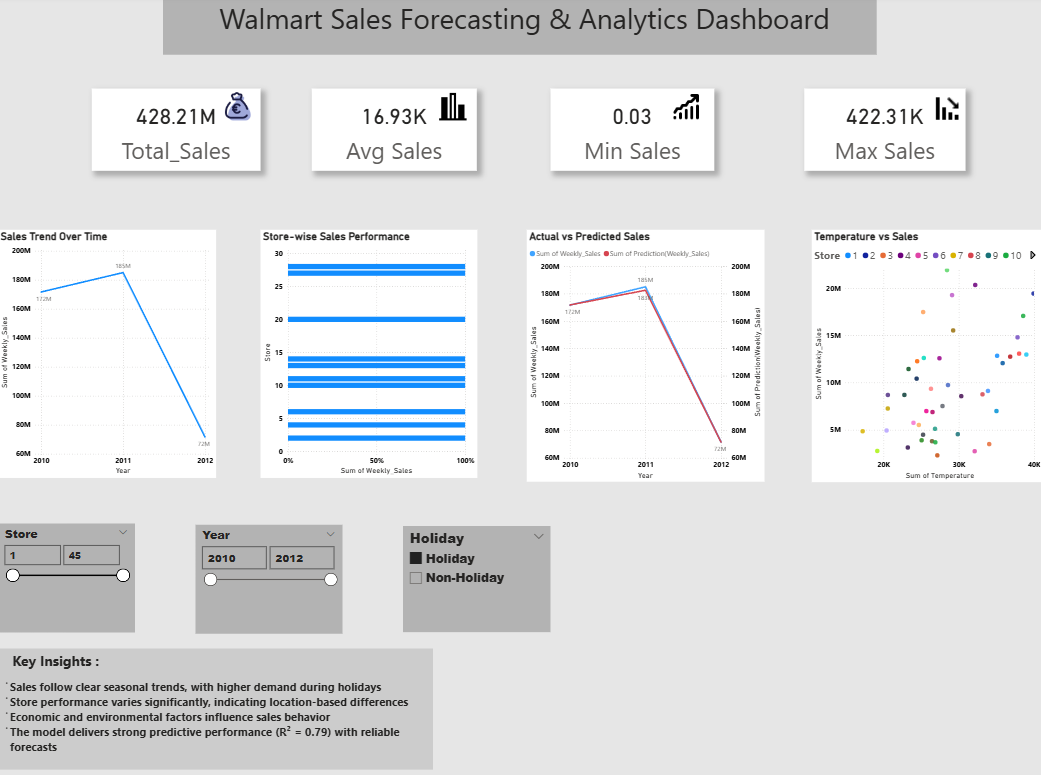

Layout of this report page (visuals, bound fields, positions):
{"tool":"powerbi","page":{"name":"walmart_sales_prediction_dashboard","canvas":[2000,1500],"ordinal":0},"visuals":[{"type":"card","fields":{"Values":["Sum(walmart_final_data.Weekly_Sales)"]},"box":[179.5,177.1,323.1,157.9],"z":0},{"type":"card","fields":{"Values":["walmart_final_data.Avg Sales"]},"box":[600.7,177.1,315.9,157.9],"z":1000},{"type":"card","fields":{"Values":["walmart_final_data.Min Sales (Clean)"]},"box":[1057.8,177.1,313.5,157.9],"z":2000},{"type":"card","fields":{"Values":["walmart_final_data.Max Sales"]},"box":[1543.6,177.1,308.7,157.9],"z":3000},{"type":"lineChart","title":"Sales Trend Over Time","fields":{"Category":["walmart_final_data.Date.Variation.Date Hierarchy.Year","walmart_final_data.Date.Variation.Date Hierarchy.Month"],"Y":["Sum(walmart_final_data.Weekly_Sales)"]},"box":[0,447.5,417.5,475],"z":4000},{"type":"hundredPercentStackedBarChart","title":"Store-wise Sales Performance","fields":{"Category":["walmart_final_data.Store"],"Y":["Sum(walmart_final_data.Weekly_Sales)"]},"box":[502.5,447.5,415,475],"z":5000},{"type":"lineChart","title":"Actual vs Predicted Sales","fields":{"Category":["walmart_final_data.Date.Variation.Date Hierarchy.Year","walmart_final_data.Date.Variation.Date Hierarchy.Month"],"Y":["Sum(walmart_final_data.Weekly_Sales)"],"Y2":["Sum(walmart_final_data.Prediction(Weekly_Sales))"]},"box":[1012.5,447.5,455,482.5],"z":6000},{"type":"scatterChart","title":"Temperature vs Sales","fields":{"X":["Sum(walmart_final_data.Temperature)"],"Y":["Sum(walmart_final_data.Weekly_Sales)"],"Series":["walmart_final_data.Store"]},"box":[1557.9,447.5,442.7,483.4],"z":7000},{"type":"slicer","fields":{"Values":["walmart_final_data.Store"]},"box":[0,1009.9,260.9,208.2],"z":8000},{"type":"shape","box":[315.9,0,1366.5,112.5],"z":9000},{"type":"slicer","fields":{"Values":["walmart_final_data.Year"]},"box":[378.1,1012.3,280,208.2],"z":10000},{"type":"shape","box":[0,1249.2,832.8,232.1],"z":11000},{"type":"slicer","fields":{"Values":["walmart_final_data.Holiday"]},"box":[775.4,1014.7,282.4,203.4],"z":12000},{"type":"textbox","box":[418.8,0,1275.5,112.5],"z":13000},{"type":"textbox","box":[0,1249.2,799.3,232.1],"z":14000},{"type":"image","box":[416.4,181.9,81.4,57.4],"z":15000},{"type":"image","box":[1280.3,179.5,74.2,64.6],"z":16000},{"type":"image","box":[1780.5,186.7,74.2,57.4],"z":17000},{"type":"image","box":[825.6,179.5,90.9,64.6],"z":18000}]}

Visuals, with their boxes in screenshot pixels (x1, y1, x2, y2), scaled from the page's 2000x1500 canvas onto the 1041x775 screenshot:
card - Sum(walmart_final_data.Weekly_Sales): bbox=(93, 92, 262, 173)
card - walmart_final_data.Avg Sales: bbox=(313, 92, 477, 173)
card - walmart_final_data.Min Sales (Clean): bbox=(551, 92, 714, 173)
card - walmart_final_data.Max Sales: bbox=(803, 92, 964, 173)
"Sales Trend Over Time" lineChart: bbox=(0, 231, 217, 477)
"Store-wise Sales Performance" hundredPercentStackedBarChart: bbox=(262, 231, 478, 477)
"Actual vs Predicted Sales" lineChart: bbox=(527, 231, 764, 481)
"Temperature vs Sales" scatterChart: bbox=(811, 231, 1040, 481)
slicer - walmart_final_data.Store: bbox=(0, 522, 136, 629)
shape: bbox=(164, 0, 876, 58)
slicer - walmart_final_data.Year: bbox=(197, 523, 343, 631)
shape: bbox=(0, 645, 433, 765)
slicer - walmart_final_data.Holiday: bbox=(404, 524, 551, 629)
textbox: bbox=(218, 0, 882, 58)
textbox: bbox=(0, 645, 416, 765)
image: bbox=(217, 94, 259, 124)
image: bbox=(666, 93, 705, 126)
image: bbox=(927, 96, 965, 126)
image: bbox=(430, 93, 477, 126)
